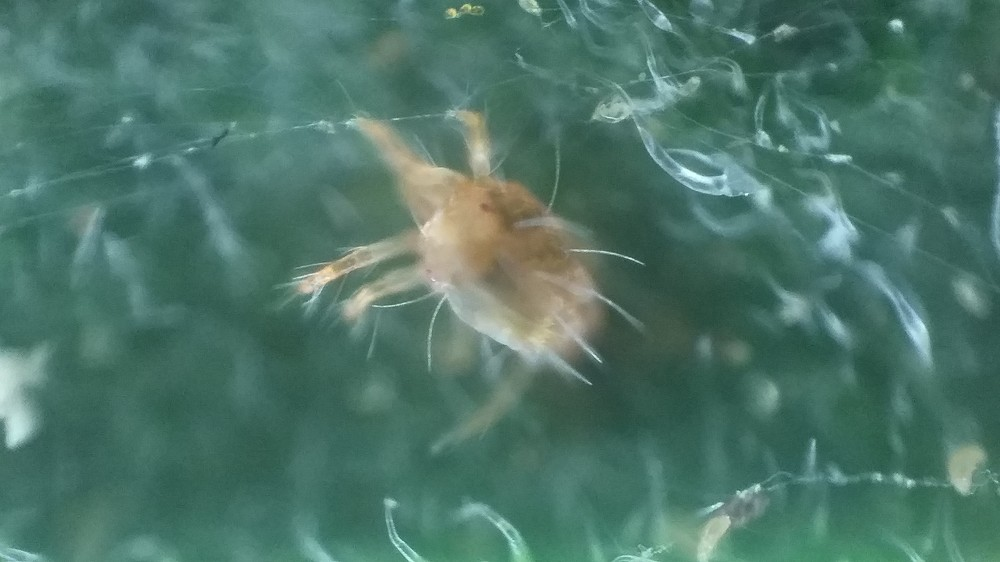Aracnido Rojo: (289, 109, 662, 438)
